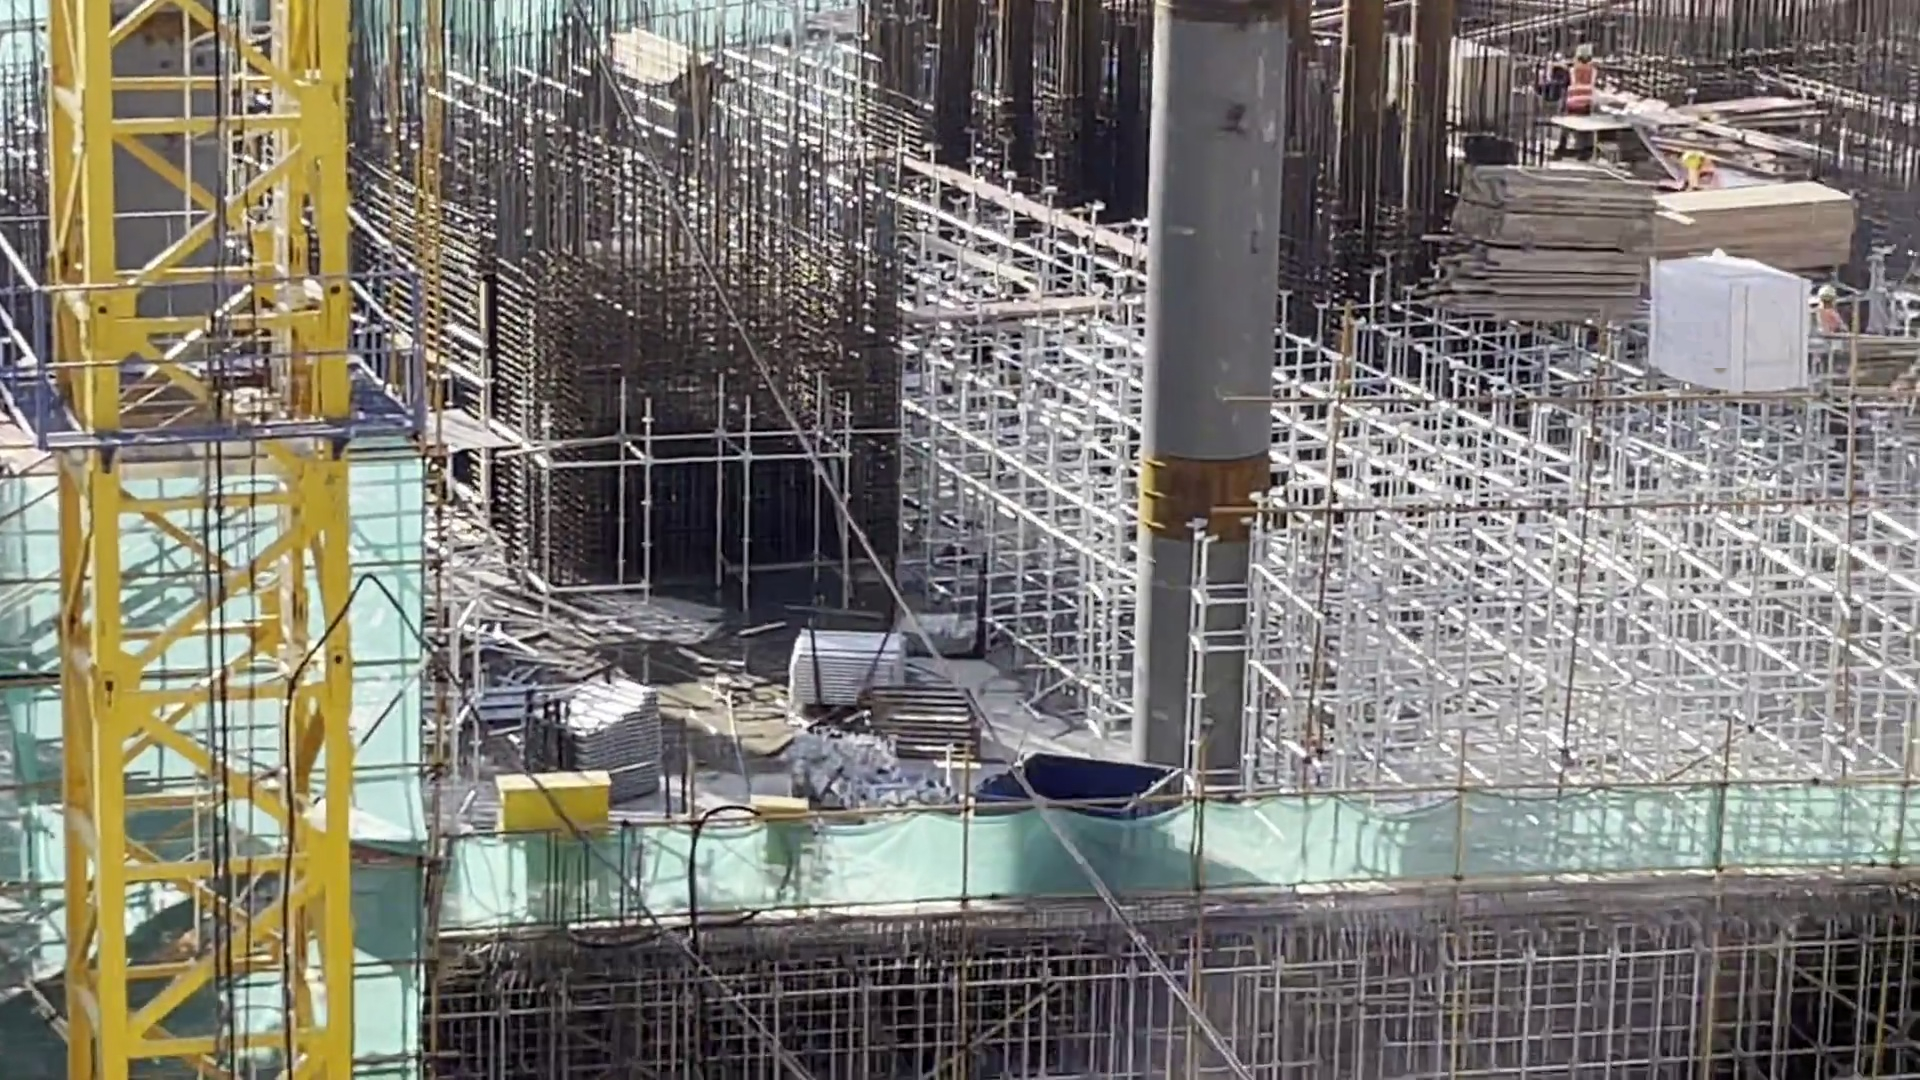ebox: (491, 760, 610, 815)
helmet: (1818, 283, 1835, 301), (1680, 152, 1698, 168), (1574, 45, 1593, 57)
hopper: (969, 743, 1184, 806)
person: (1557, 43, 1598, 114), (1677, 151, 1721, 193), (1816, 284, 1850, 333)
scaffold: (791, 626, 904, 716)
vest: (1568, 63, 1596, 108)
wood: (1432, 160, 1649, 326), (1659, 180, 1856, 269)
